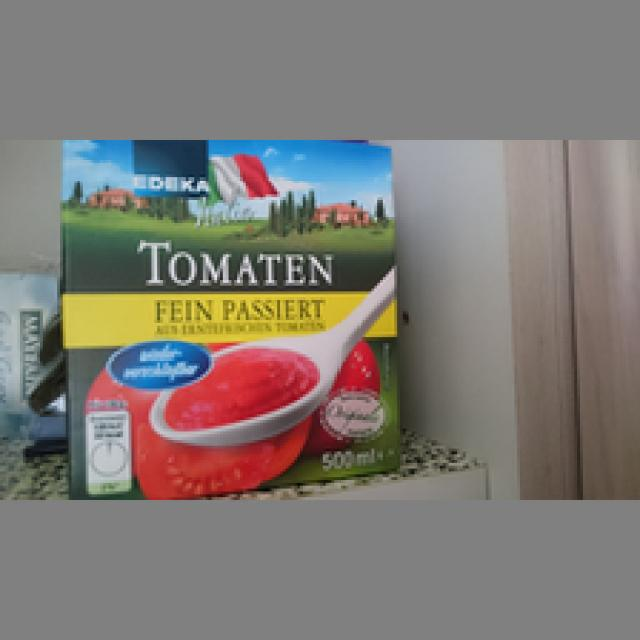groceries: (57, 137, 400, 497)
